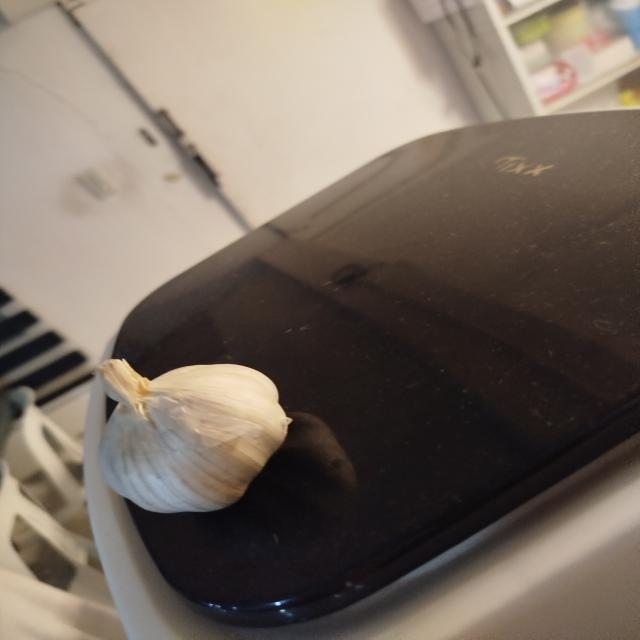garlic: (96, 357, 293, 514)
